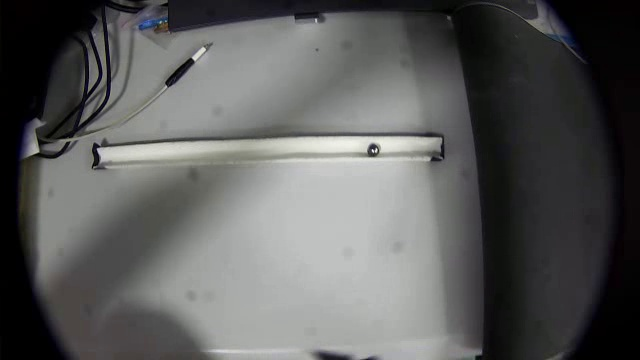gangzhu: (376, 140, 392, 156)
